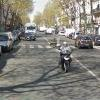Motorcycle: (50, 42, 81, 73)
